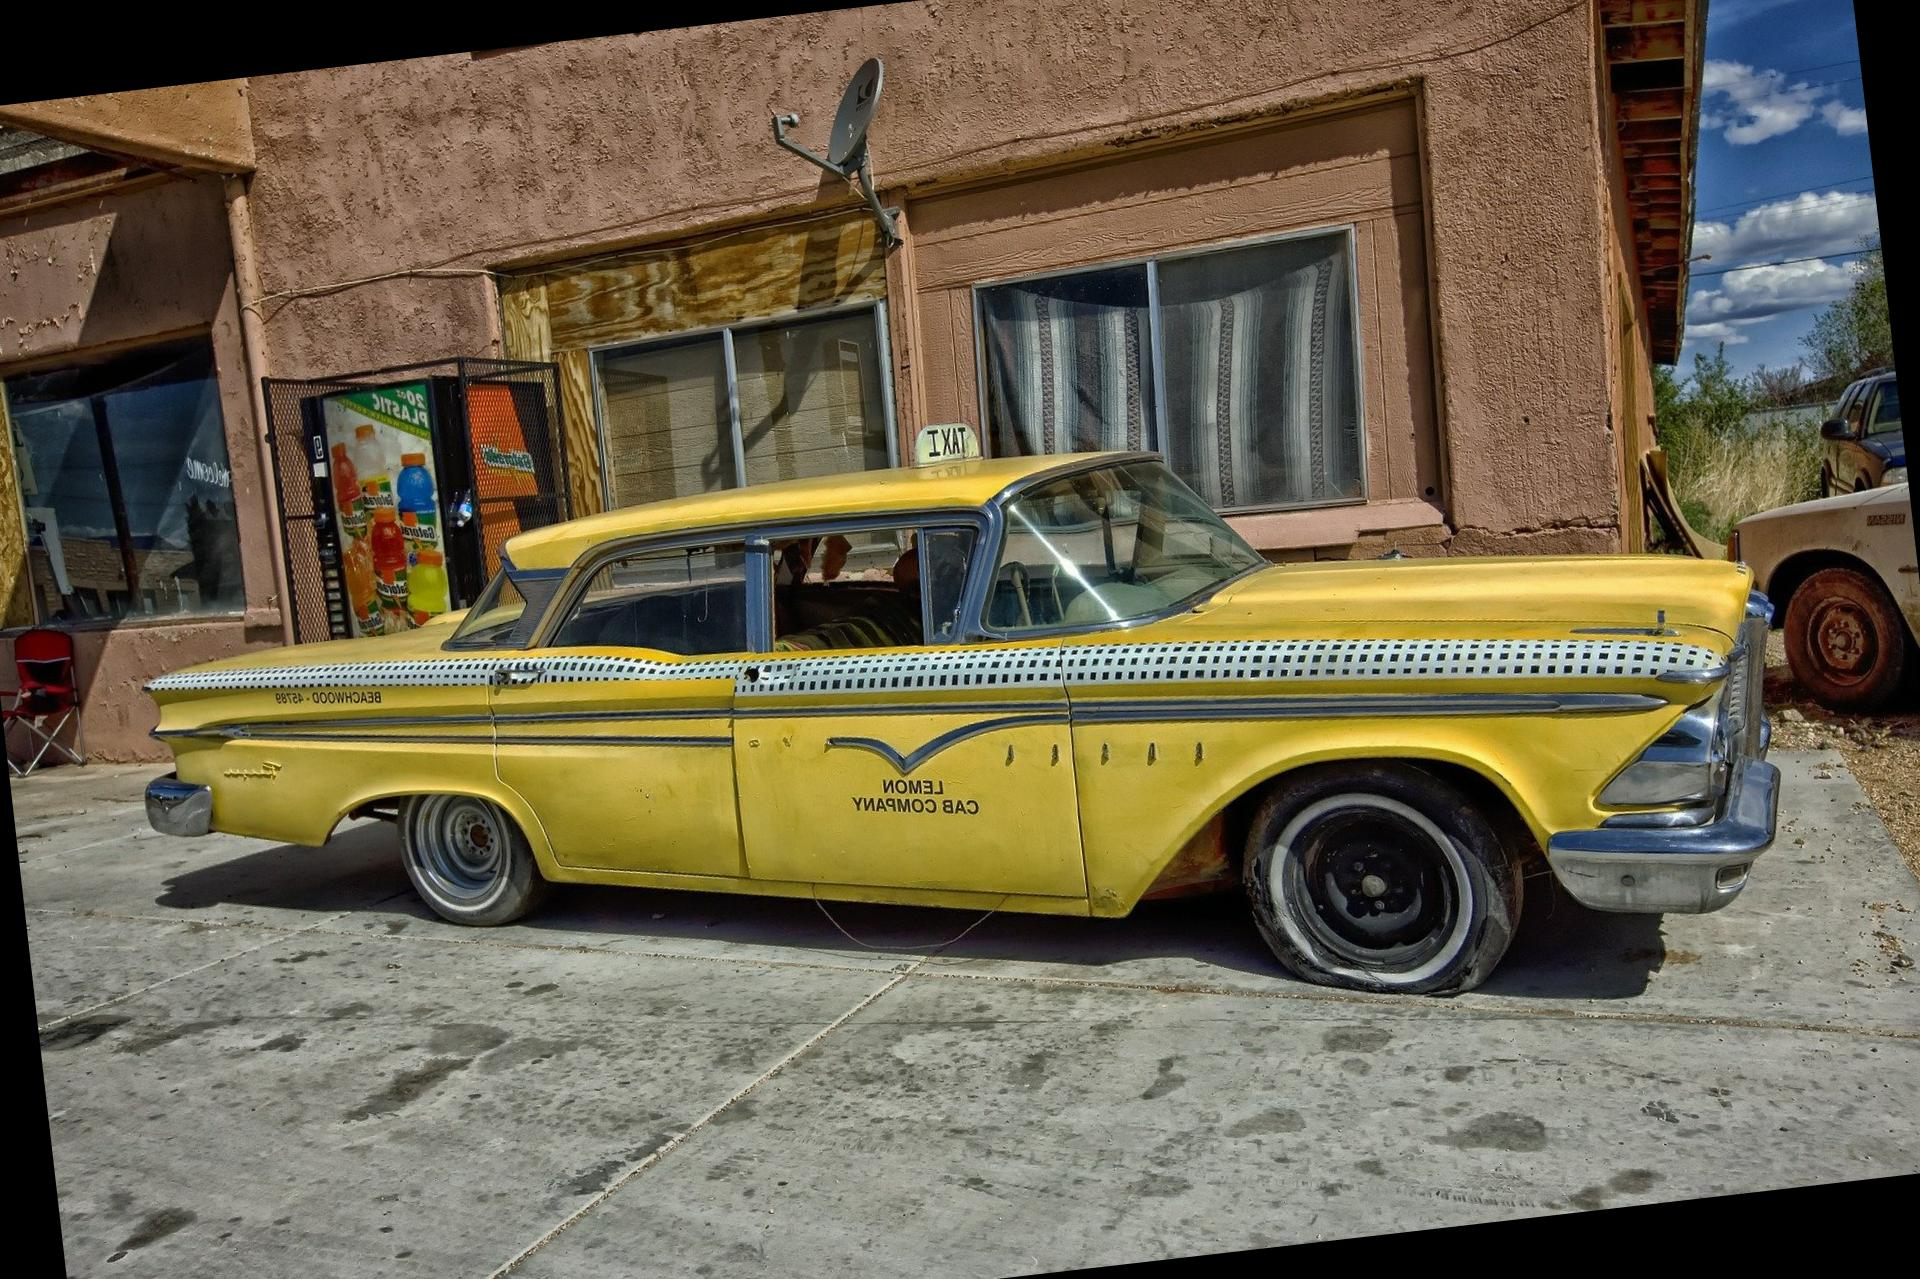taxi: (89, 562, 1823, 951)
